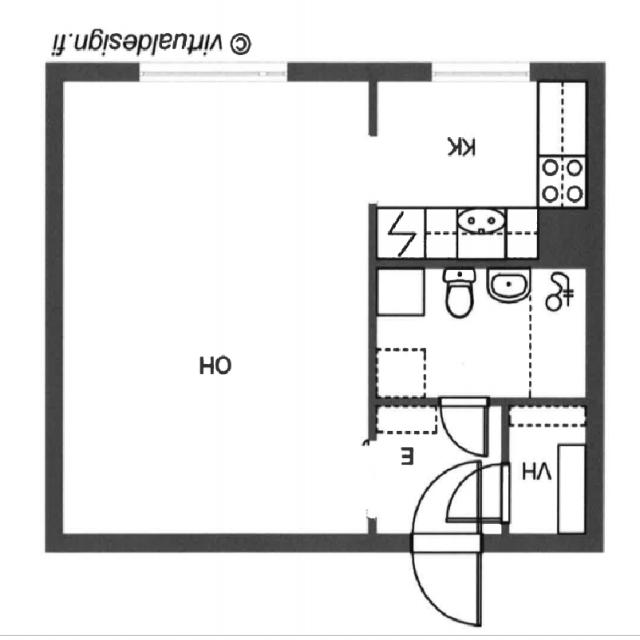door: (411, 457, 488, 629), (438, 397, 496, 459), (445, 467, 509, 522)
window: (138, 58, 292, 80), (428, 60, 538, 80)
zone: (56, 73, 371, 541), (370, 257, 598, 397), (369, 80, 540, 258), (501, 405, 592, 536), (536, 78, 592, 205)
